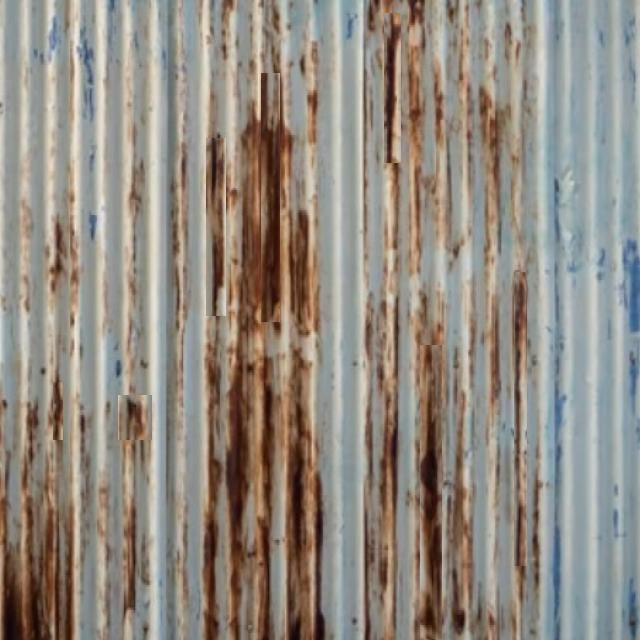Corrosion: (204, 331, 256, 640), (399, 340, 445, 640), (283, 335, 319, 640), (258, 73, 291, 322), (0, 480, 39, 640), (206, 133, 227, 317), (289, 210, 317, 334), (385, 12, 403, 164)
